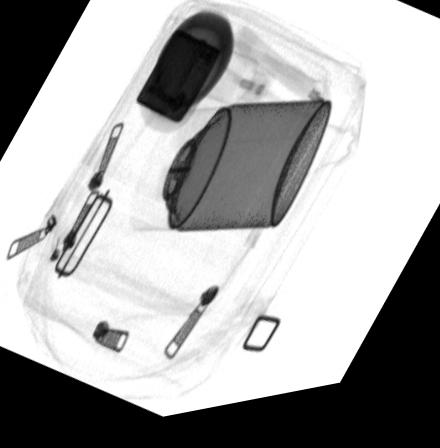Lighter: (137, 32, 221, 129)
Sprayer: (129, 110, 332, 237)
